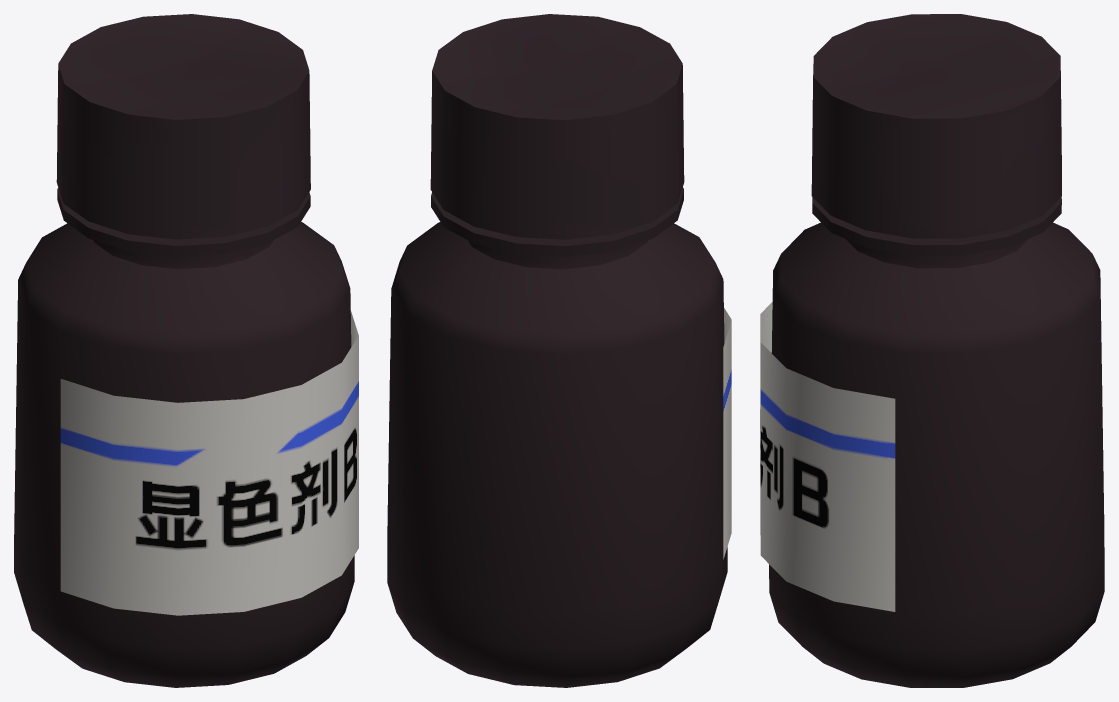
The model's file is 显色剂B液.glb.
3 views of the same model, side by side, from view 1: azimuth 30°, elevation 25°; view 2: azimuth 150°, elevation 25°; view 3: azimuth 270°, elevation 25° (orthographic).
Parts seen in each view (by area): view 1: 显色剂b, DAPI染液, DAPI染液.003; view 2: 显色剂b, DAPI染液.003, DAPI染液; view 3: 显色剂b, DAPI染液.003, DAPI染液.
Part boxes in pixels (x1,y1,x2,y2): 显色剂b: [14, 188, 354, 687]; DAPI染液: [60, 310, 358, 615]; DAPI染液.003: [56, 14, 310, 239]; 显色剂b: [387, 187, 727, 687]; DAPI染液.003: [430, 14, 684, 239]; DAPI染液: [723, 308, 731, 559]; 显色剂b: [769, 197, 1104, 687]; DAPI染液.003: [811, 14, 1061, 238]; DAPI染液: [760, 302, 895, 611].
Bounding box in the file's own units: 0.0676 × 0.1275 × 0.0694.
1 material, 1 textured.
